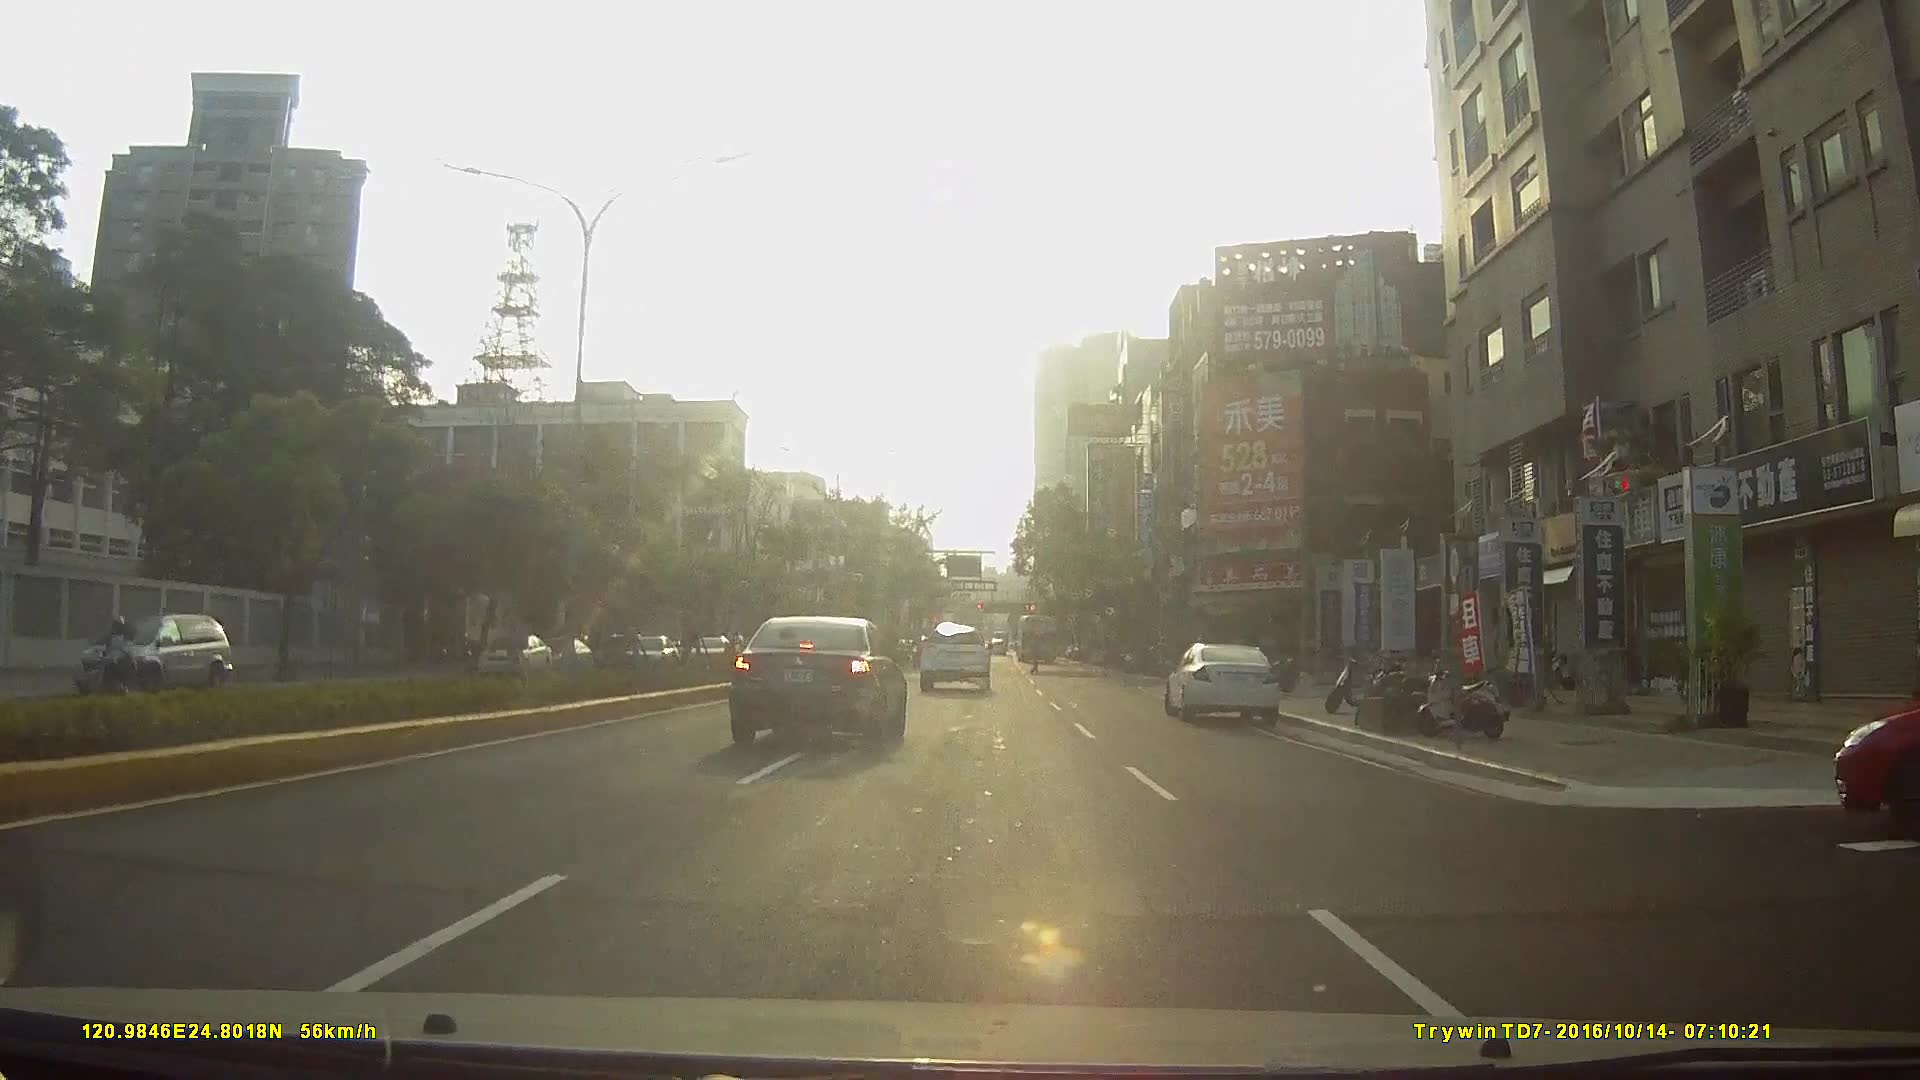rider: (100, 611, 152, 707)
vehicle: (730, 613, 911, 749), (71, 606, 236, 702), (1829, 668, 1920, 833), (1166, 643, 1285, 728), (918, 619, 992, 690), (472, 630, 551, 675), (618, 632, 682, 678), (1012, 612, 1061, 665), (683, 635, 738, 668)
